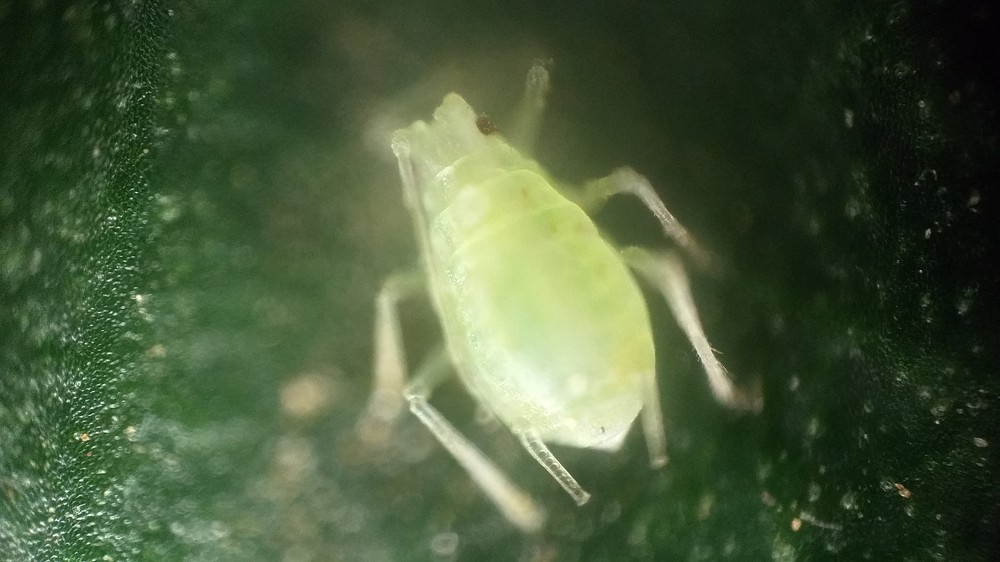Pulgon: (284, 50, 781, 531)
